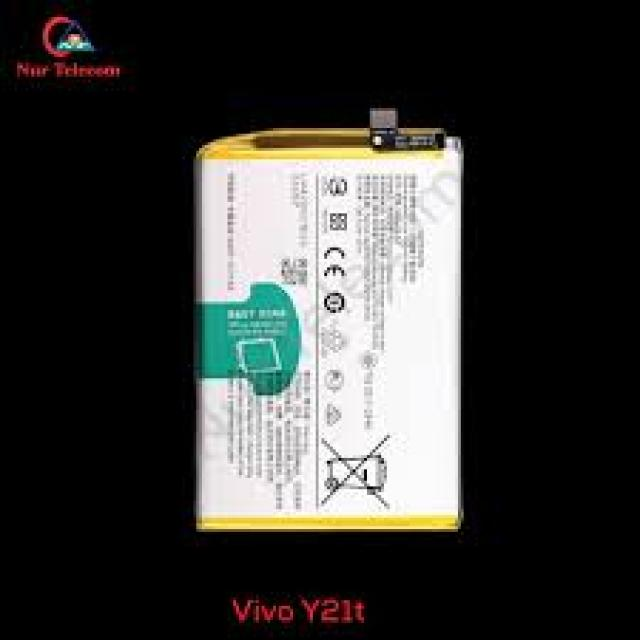Battery: (186, 104, 472, 538)
